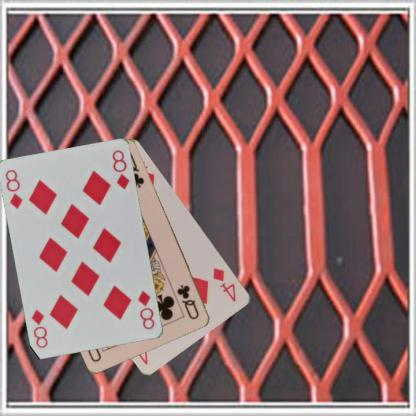4d: (210, 266, 239, 303)
8d: (135, 288, 156, 331), (3, 167, 24, 210)
Qc: (174, 282, 200, 321)
